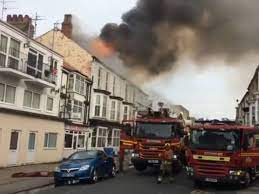smoke: (100, 1, 258, 80)
